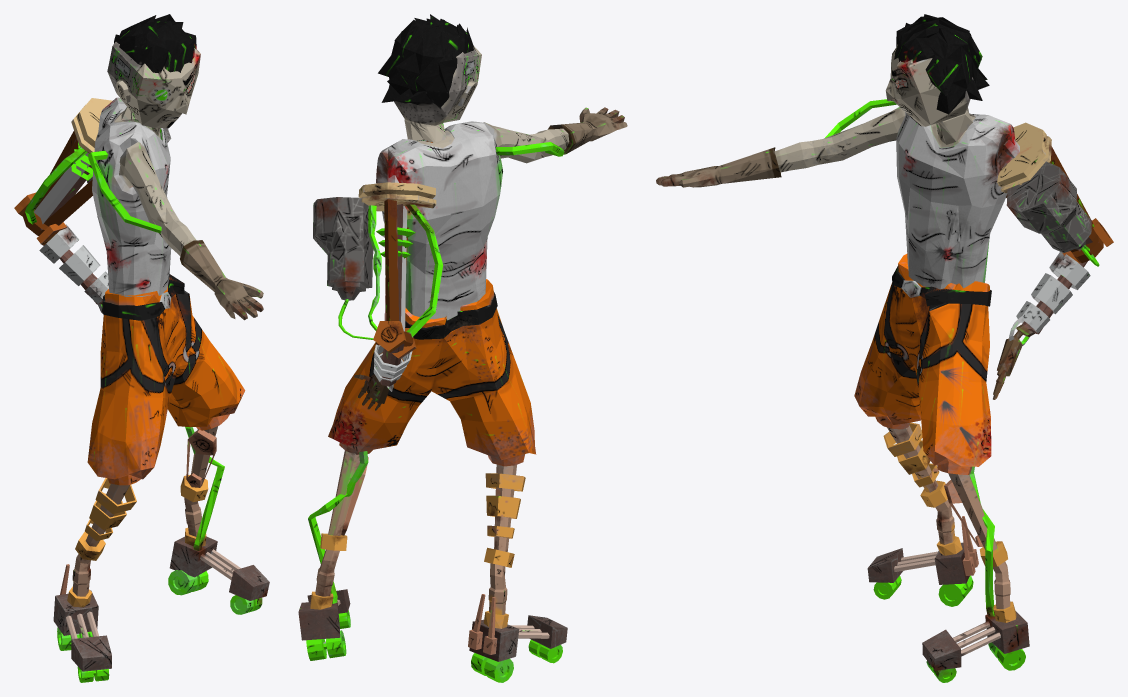
The model's file is CyborgFINALAnimation_000011.obj.
3 renders of one model, left to right at view 1: azimuth 30°, elevation 25°; view 2: azimuth 150°, elevation 25°; view 3: azimuth 270°, elevation 25°, orthographic. The views are drawn at different scales.
Parts seen in each view (by area): view 1: CyborgMesh_Cube.002; view 2: CyborgMesh_Cube.002; view 3: CyborgMesh_Cube.002.
Part boxes in pixels (x1=…): CyborgMesh_Cube.002: x1=14, y1=14, x2=269, y2=682; CyborgMesh_Cube.002: x1=298, y1=14, x2=627, y2=682; CyborgMesh_Cube.002: x1=656, y1=14, x2=1113, y2=682.
Bounding box in the file's own units: 3.46 × 9.53 × 6.41.
